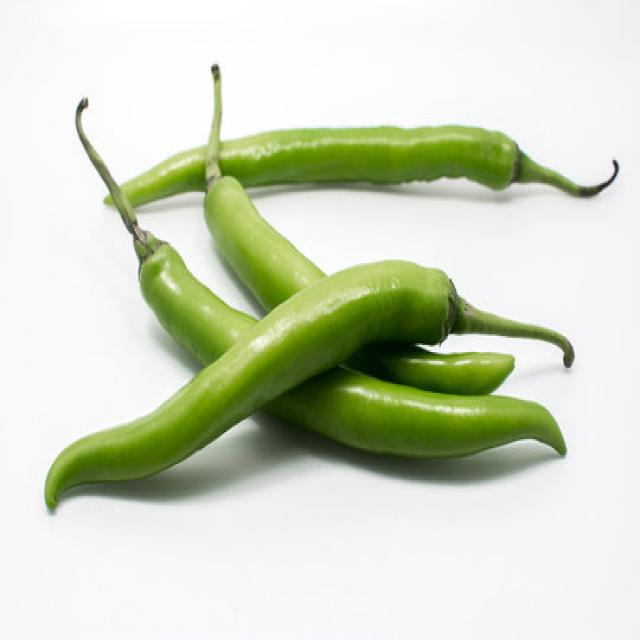Chilli: (44, 256, 460, 510), (91, 135, 604, 214), (258, 362, 566, 458)
